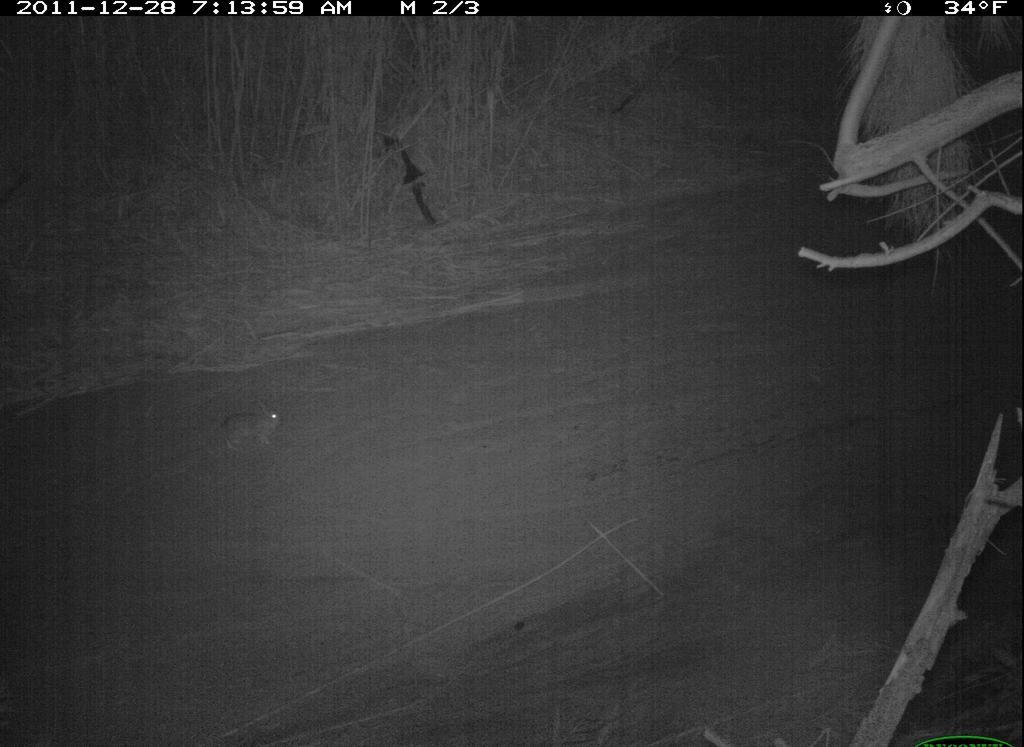rabbit: (213, 399, 289, 455)
